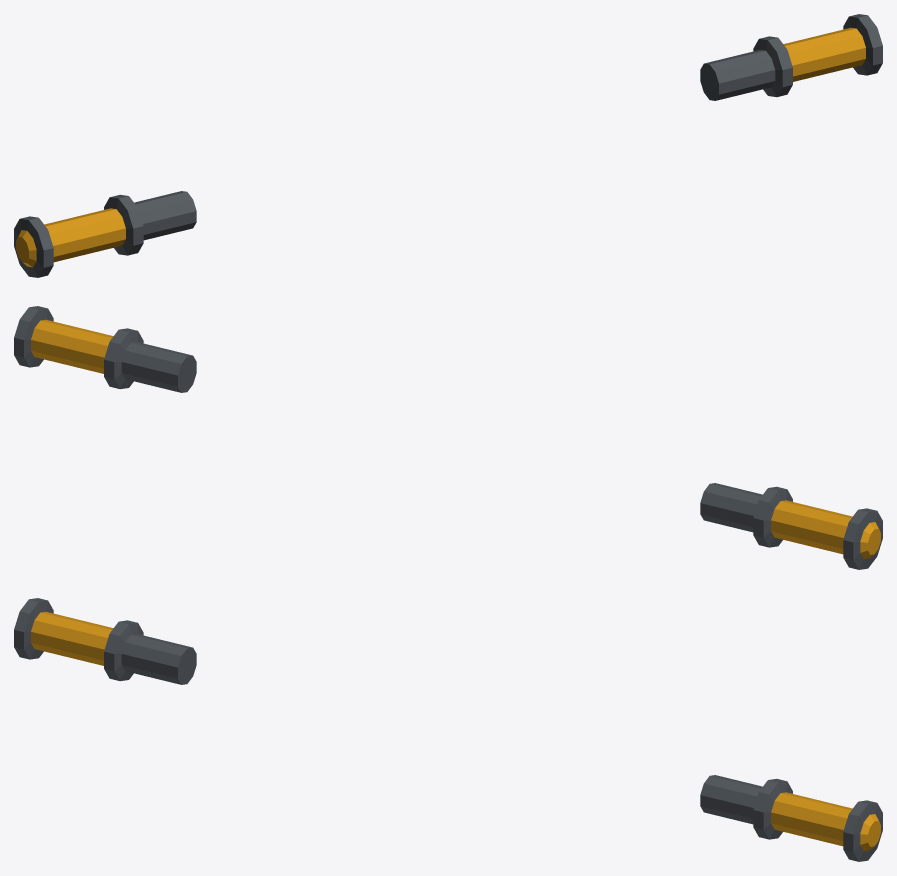
File: Personal_Vehicle_02_Footrest_Yellow.fbx
The picture shows the model from 3 angles, top to bottom: view 1: azimuth 30°, elevation 25°; view 2: azimuth 150°, elevation 25°; view 3: azimuth 330°, elevation 25°; orthographic projection.
Visible parts, largest first — view 1: Personal_Vehicle_02_Footrest_Yellow; view 2: Personal_Vehicle_02_Footrest_Yellow; view 3: Personal_Vehicle_02_Footrest_Yellow.
Part boxes in pixels (left/top/right/bottom): Personal_Vehicle_02_Footrest_Yellow: left=14, top=14, right=882, bottom=277; Personal_Vehicle_02_Footrest_Yellow: left=14, top=306, right=882, bottom=569; Personal_Vehicle_02_Footrest_Yellow: left=14, top=598, right=882, bottom=861.
Size of the model in its own units: 131 by 8.31 by 7.91.
1 material, 1 textured.
